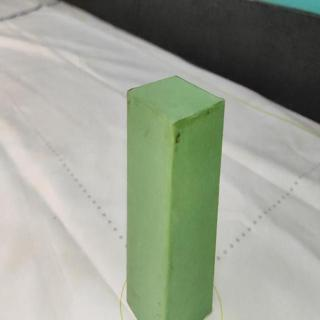greenbox: (126, 75, 225, 320)
